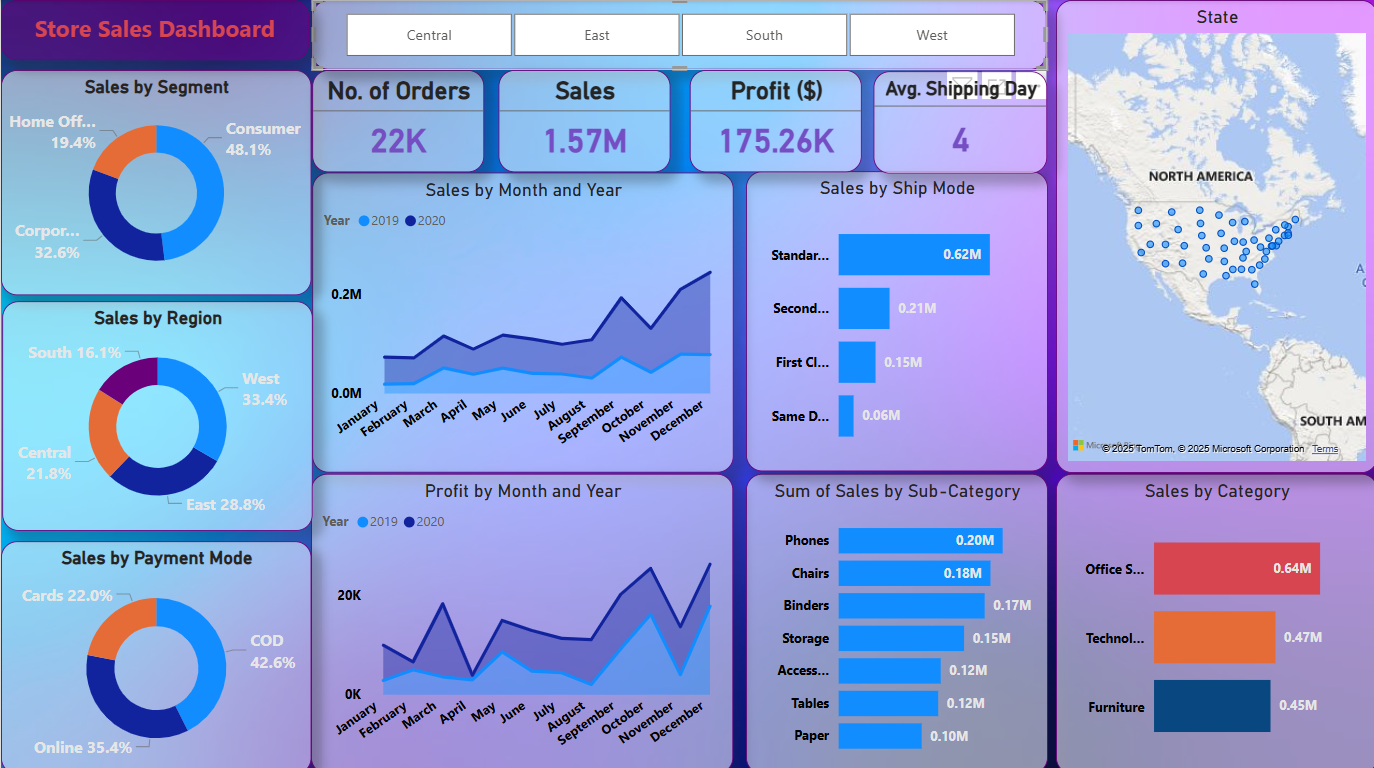

The page's visual inventory and layout, read from the dashboard file:
{"tool":"powerbi","page":{"name":"Page 1","canvas":[1280,720],"ordinal":0},"visuals":[{"type":"clusteredBarChart","fields":{"Category":["SuperStore_Sales_Dataset (2).Sub-Category"],"Y":["Sum(SuperStore_Sales_Dataset (2).Sales)"]},"box":[693.1,440.2,280.5,279.3],"z":0},{"type":"clusteredBarChart","title":"Sales by Category","fields":{"Category":["SuperStore_Sales_Dataset (2).Category"],"Y":["Sum(SuperStore_Sales_Dataset (2).Sales)"]},"box":[981.6,440.2,298.9,279.3],"z":1000},{"type":"clusteredBarChart","title":"Sales by Ship Mode","fields":{"Category":["SuperStore_Sales_Dataset (2).Ship Mode"],"Y":["Sum(SuperStore_Sales_Dataset (2).Sales)"]},"box":[693.1,159.8,280.5,279.3],"z":2000},{"type":"stackedAreaChart","title":"Sales by Month and Year","fields":{"Y":["Sum(SuperStore_Sales_Dataset (2).Sales)"],"Category":["SuperStore_Sales_Dataset (2).Order Date.Variation.Date Hierarchy.Month"],"Series":["SuperStore_Sales_Dataset (2).Order Date.Variation.Date Hierarchy.Year"]},"box":[289.7,160.9,392,279.3],"z":3000},{"type":"stackedAreaChart","title":"Profit by Month and Year","fields":{"Series":["SuperStore_Sales_Dataset (2).Order Date.Variation.Date Hierarchy.Year"],"Y":["Sum(SuperStore_Sales_Dataset (2).Profit)"],"Category":["SuperStore_Sales_Dataset (2).Order Date.Variation.Date Hierarchy.Month","SuperStore_Sales_Dataset (2).Order Date.Variation.Date Hierarchy.Day"]},"box":[288.5,440.2,393.1,279.3],"z":4000},{"type":"map","fields":{"Category":["SuperStore_Sales_Dataset (2).State"]},"box":[981.6,0,298.9,440.2],"z":5000},{"type":"donutChart","title":"Sales by Segment","fields":{"Category":["SuperStore_Sales_Dataset (2).Segment"],"Y":["Sum(SuperStore_Sales_Dataset (2).Sales)"]},"box":[0,64.9,288.7,209.3],"z":6000},{"type":"card","title":"No. of Orders","fields":{"Values":["Sum(SuperStore_Sales_Dataset (2).Quantity)"]},"box":[289.7,64.9,159.8,94.8],"z":7000},{"type":"donutChart","title":"Sales by Region","fields":{"Y":["Sum(SuperStore_Sales_Dataset (2).Sales)"],"Category":["SuperStore_Sales_Dataset (2).Region"]},"box":[1,280.4,288.7,213.4],"z":8000},{"type":"donutChart","title":"Sales by Payment Mode","fields":{"Y":["Sum(SuperStore_Sales_Dataset (2).Sales)"],"Category":["SuperStore_Sales_Dataset (2).Payment Mode"]},"box":[0,503.1,288.7,216.5],"z":9000},{"type":"slicer","fields":{"Values":["SuperStore_Sales_Dataset (2).Region"]},"box":[289.7,0,683.5,64.9],"z":10000},{"type":"card","title":"Sales","fields":{"Values":["Sum(SuperStore_Sales_Dataset (2).Sales)"]},"box":[462.9,64.9,159.8,94.8],"z":11000},{"type":"card","title":"Profit ($)","fields":{"Values":["Sum(SuperStore_Sales_Dataset (2).Profit)"]},"box":[640.2,64.9,159.8,94.8],"z":12000},{"type":"card","title":"Avg. Shipping Day","fields":{"Values":["Avg(SuperStore_Sales_Dataset (2).AvgDelivery)"]},"box":[811.3,66,161.9,94.8],"z":13000},{"type":"textbox","box":[0,0,286.6,55.7],"z":14000}]}

Visuals, with their boxes in screenshot pixels (x1, y1, x2, y2), scaled from the page's 1280x720 canvas onto the 1374x768 screenshot:
clusteredBarChart - SuperStore_Sales_Dataset (2).Sub-Category x Sum(SuperStore_Sales_Dataset (2).Sales): bbox=[744, 470, 1045, 767]
"Sales by Category" clusteredBarChart: bbox=[1054, 470, 1373, 767]
"Sales by Ship Mode" clusteredBarChart: bbox=[744, 170, 1045, 468]
"Sales by Month and Year" stackedAreaChart: bbox=[311, 172, 732, 470]
"Profit by Month and Year" stackedAreaChart: bbox=[310, 470, 732, 767]
map - SuperStore_Sales_Dataset (2).State: bbox=[1054, 0, 1373, 470]
"Sales by Segment" donutChart: bbox=[0, 69, 310, 292]
"No. of Orders" card: bbox=[311, 69, 483, 170]
"Sales by Region" donutChart: bbox=[1, 299, 311, 527]
"Sales by Payment Mode" donutChart: bbox=[0, 537, 310, 767]
slicer - SuperStore_Sales_Dataset (2).Region: bbox=[311, 0, 1045, 69]
"Sales" card: bbox=[497, 69, 668, 170]
"Profit ($)" card: bbox=[687, 69, 859, 170]
"Avg. Shipping Day" card: bbox=[871, 70, 1045, 172]
textbox: bbox=[0, 0, 308, 59]
